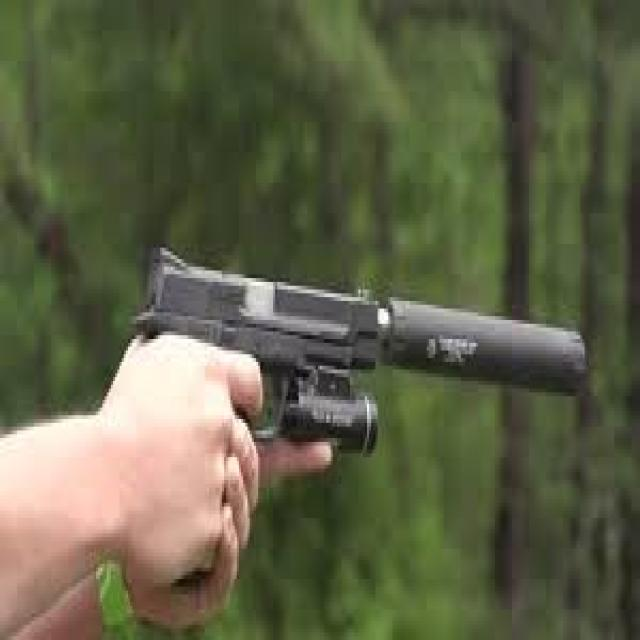gun: (123, 189, 594, 598)
